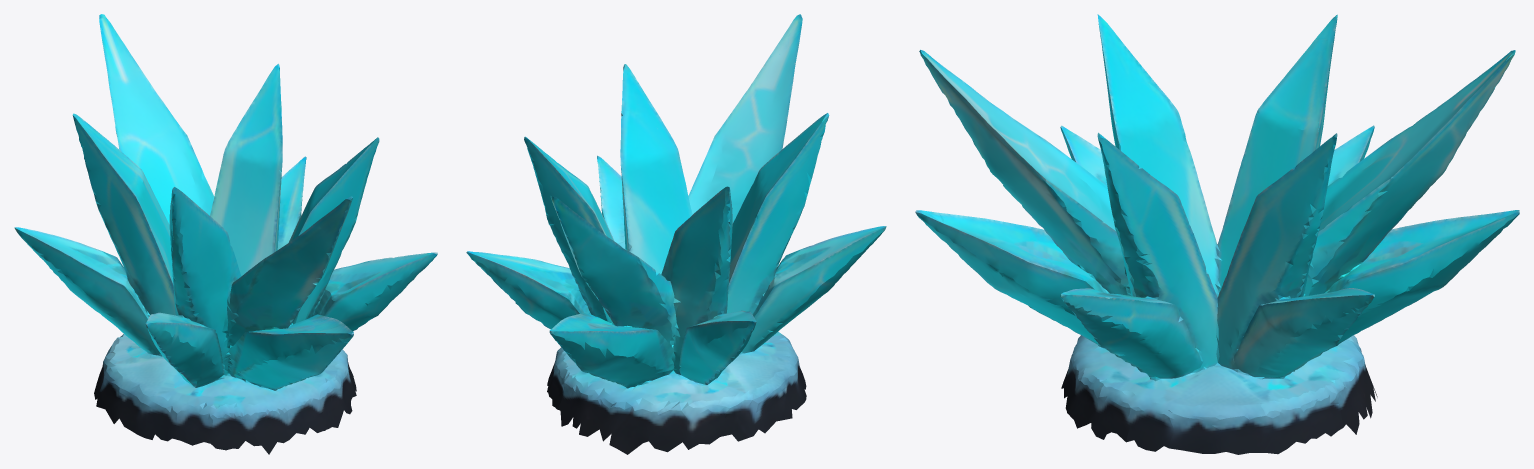
The model's file is Hollow_IceCrystal.glb.
3 views of the same model, side by side, from view 1: azimuth 30°, elevation 25°; view 2: azimuth 150°, elevation 25°; view 3: azimuth 270°, elevation 25° (orthographic). The views are drawn at different scales.
Parts seen in each view (by area): view 1: Cave_IceCrystals; view 2: Cave_IceCrystals; view 3: Cave_IceCrystals.
Part boxes in pixels (x1,y1,x2,y2): Cave_IceCrystals: (14,14,437,454); Cave_IceCrystals: (466,14,886,454); Cave_IceCrystals: (915,14,1519,454).
Bounding box in the file's own units: 1.43 × 1.4 × 2.15.
1 material, 1 textured.
